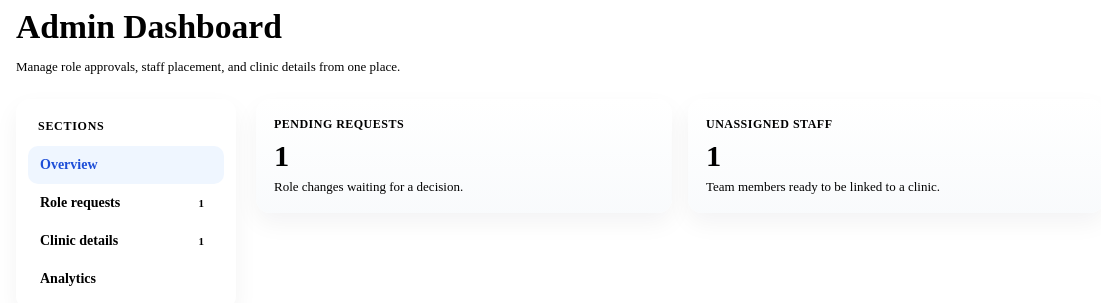
it: AdminDashboard › uses fallback labels when role request user data is missing
Step 1. Click the button "Role requests 1" → (126, 203), box [28,184,224,222]
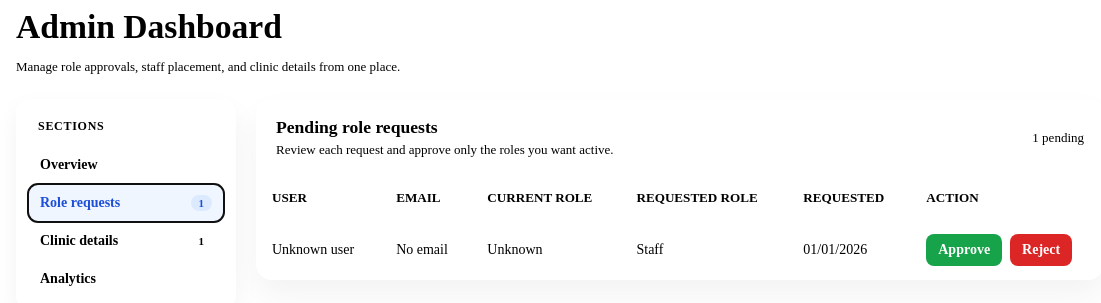
Check: the text "Unknown user" is shown, box [256,220,380,280]
Check: the text "No email" is shown, box [380,220,471,280]
Check: the text "Unknown" is shown, box [471,220,620,280]
